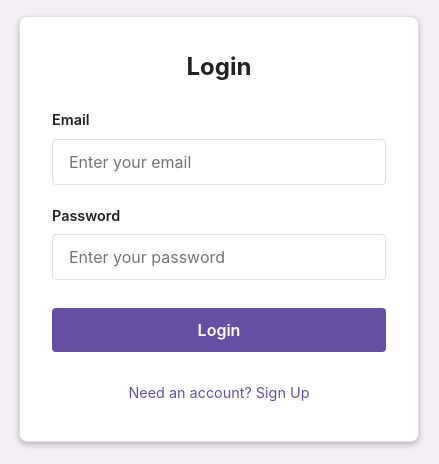
Test: Auth Component › switches to signup form when signup button is clicked
expect the heading "Login" is shown: met, box [186,52,251,81]
Click the signup link
What coordinates should you click on to do the following:
click the button "Need an account? Sign Up"
I would click on:
 (219, 393)
Its box is [120,376,318,409].
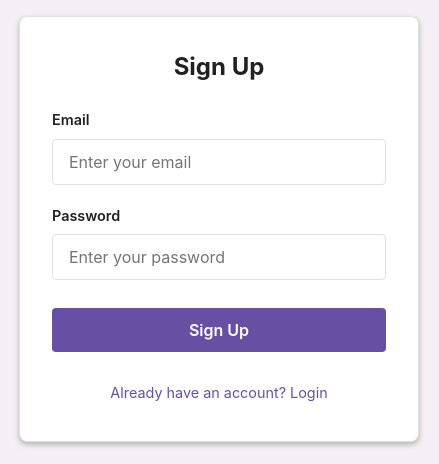
expect the heading "Sign Up" is shown: met, box [174,52,264,81]
expect the button "Sign Up" is shown: met, box [52,308,386,352]
expect the button "Already have an account? Login" is shown: met, box [102,376,336,409]
